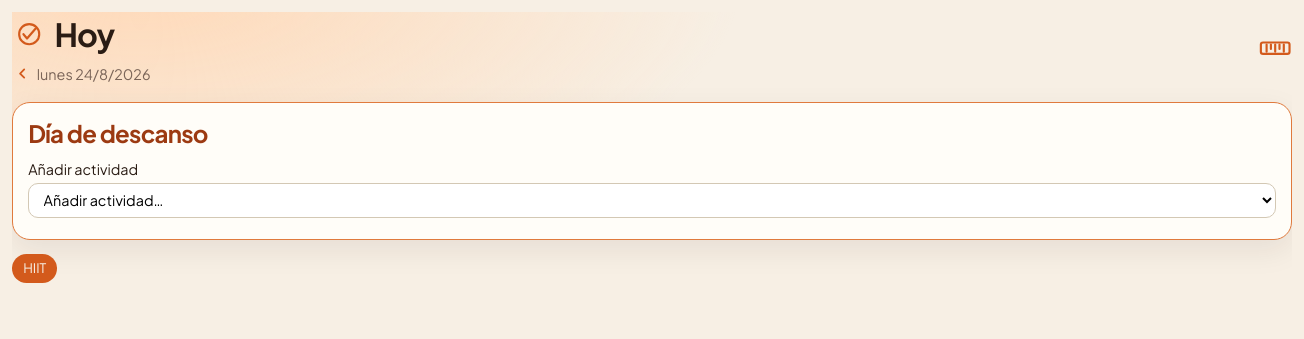
Hoy › abre un contador HIIT con cuenta atrás de 5 s
This screenshot has width=1304, height=339.
Click the button "HIIT": (35, 268) [12,254,58,283]
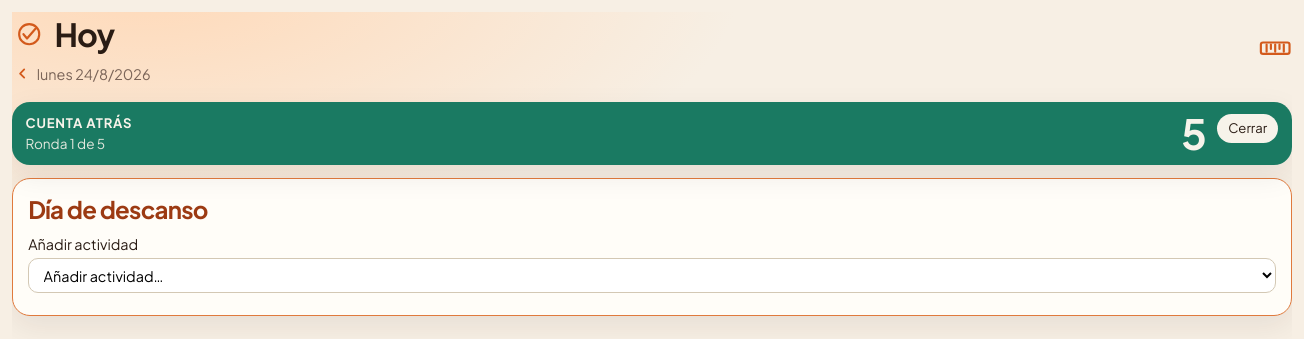
Expected: the element named "Contador HIIT" shows "5", [97,135,105,152]
Expected: the element named "Contador HIIT" shows "Cuenta atrás", [26,114,132,131]
Expected: the element named "Contador HIIT" shows "Ronda 1 de 5", [12,102,1292,165]
